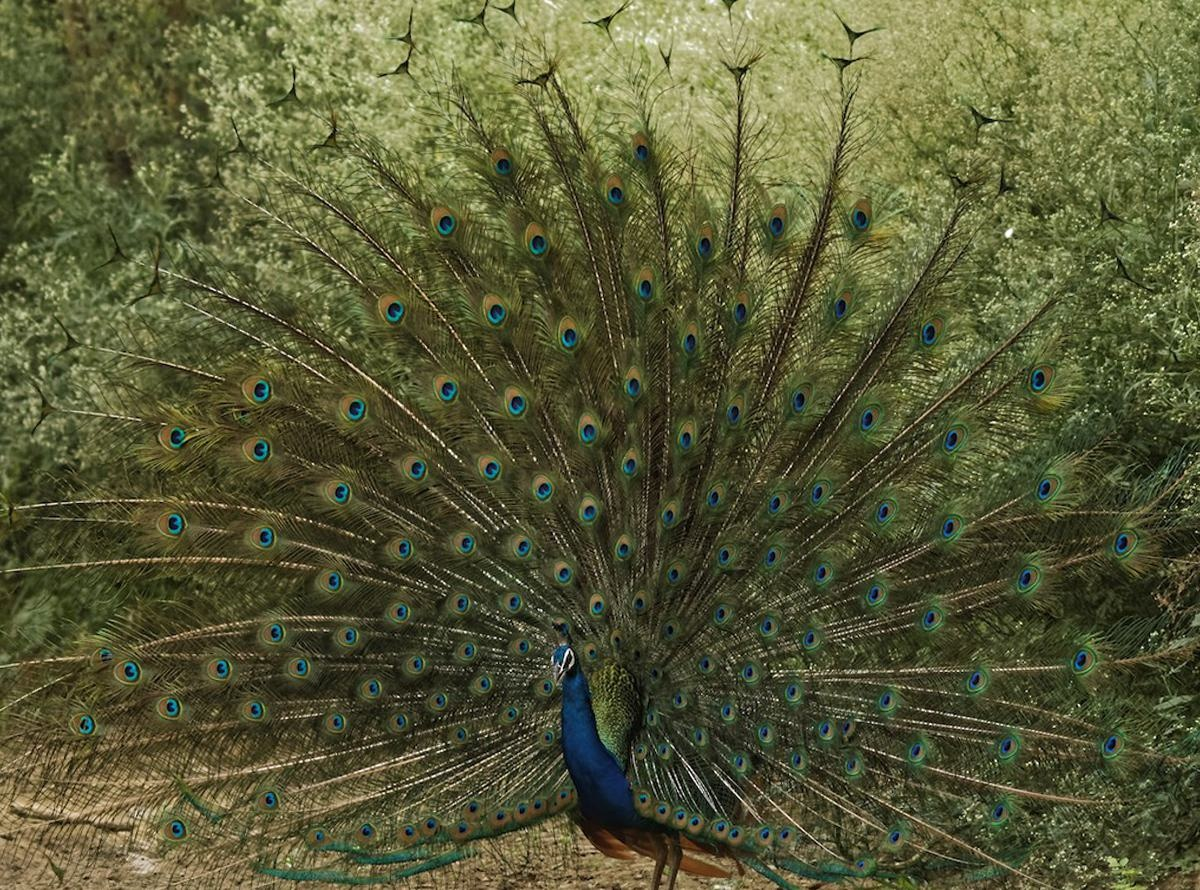peacock: (214, 175, 1133, 890)
